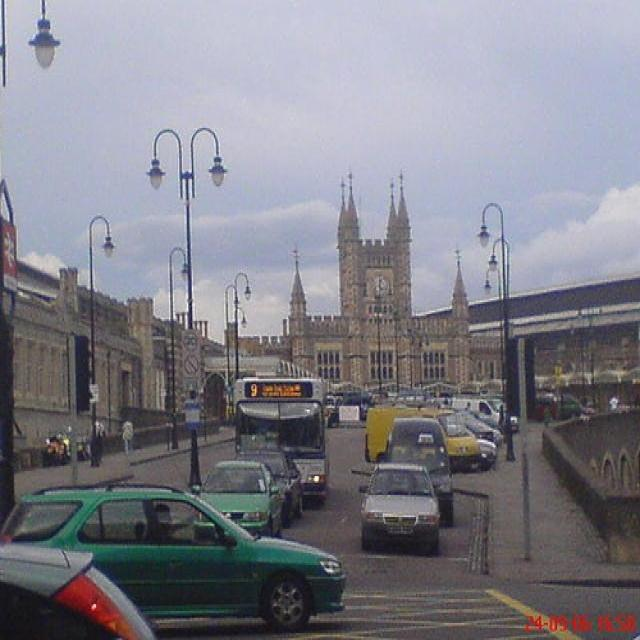bus: (234, 377, 329, 507)
car: (8, 483, 346, 631), (4, 543, 156, 638), (360, 405, 482, 471), (385, 420, 453, 526), (361, 462, 439, 553), (201, 464, 276, 540), (236, 451, 302, 524), (454, 394, 518, 435), (453, 410, 499, 446)
